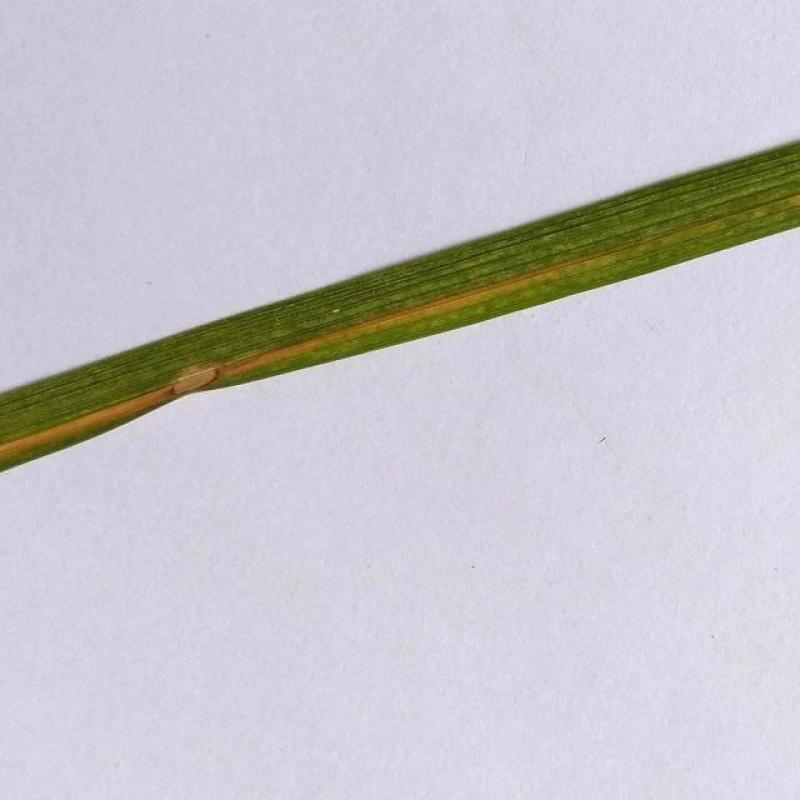Leaf_Blast: (160, 360, 232, 402)
